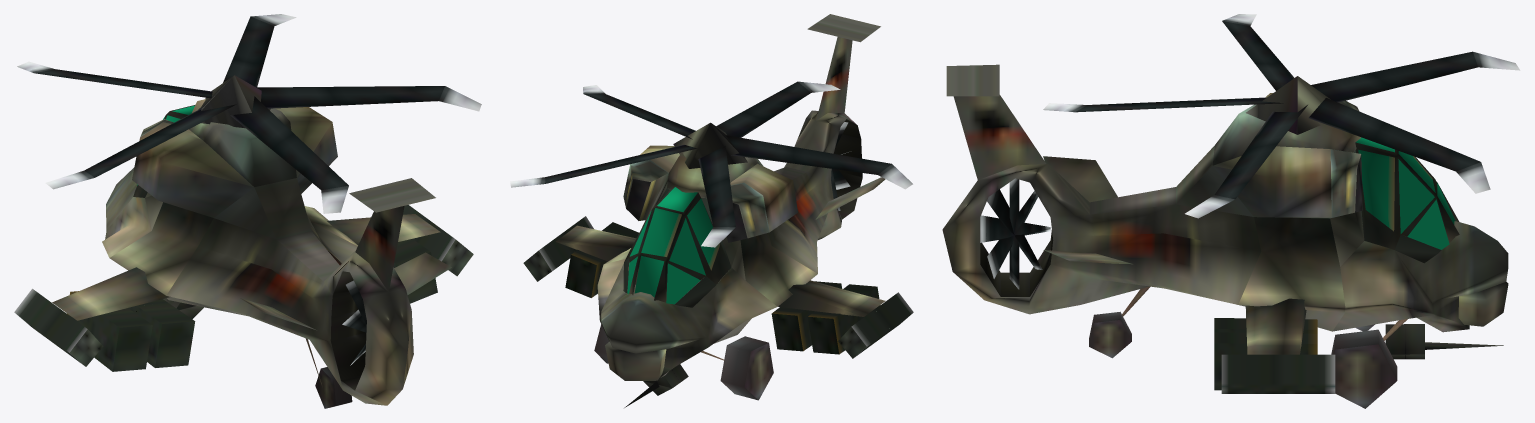
The model's file is thunder.ico.obj.
The picture shows the model from 3 angles, left to right: view 1: azimuth 30°, elevation 25°; view 2: azimuth 150°, elevation 25°; view 3: azimuth 270°, elevation 25°; orthographic projection. The views are drawn at different scales.
Bounding box in the file's own units: 3.22 × 2.1 × 3.82.
Materials: 1 (1 with a texture image).
